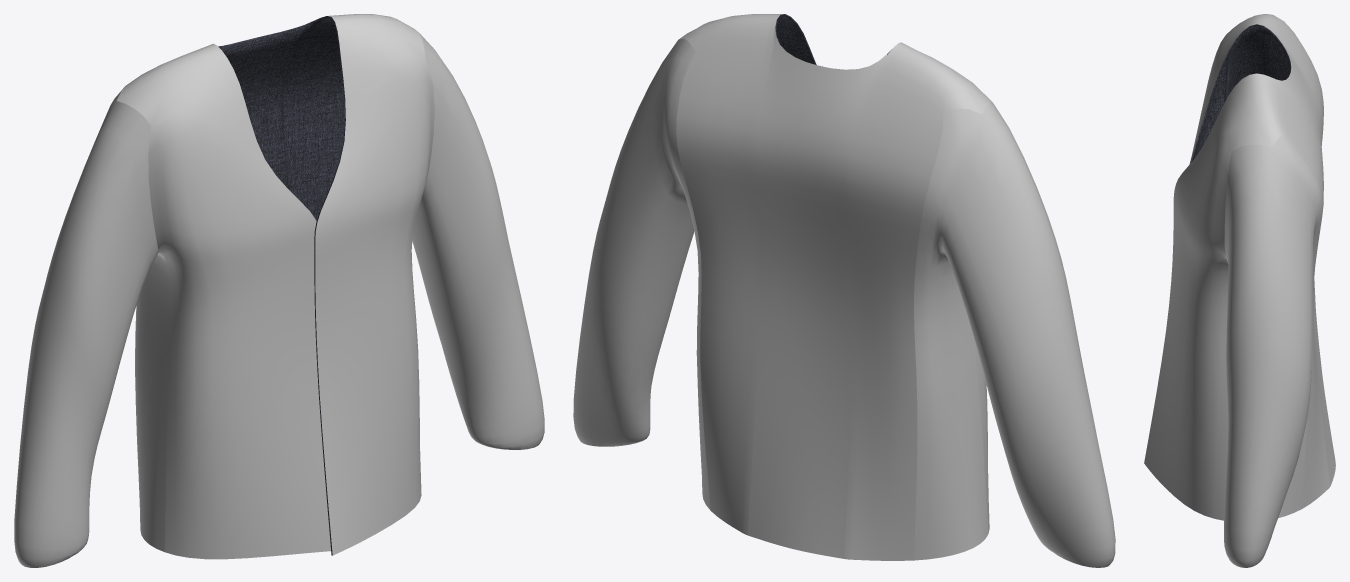
Rendered from suit.fbx.
3 views of the same model, side by side, from view 1: azimuth 30°, elevation 25°; view 2: azimuth 150°, elevation 25°; view 3: azimuth 270°, elevation 25° (orthographic). The views are drawn at different scales.
Visible parts, largest first — view 1: suit_outside, suit_inside; view 2: suit_outside, suit_inside; view 3: suit_outside, suit_inside.
Boxes of the visible parts, box(x1,y1,x2,y2) form: suit_outside: box(14, 14, 544, 567); suit_inside: box(218, 16, 345, 555); suit_outside: box(573, 14, 1115, 567); suit_inside: box(775, 14, 891, 64); suit_outside: box(1144, 14, 1335, 567); suit_inside: box(1190, 24, 1291, 163).
Bounding box in the file's own units: 383 × 332 × 138.
